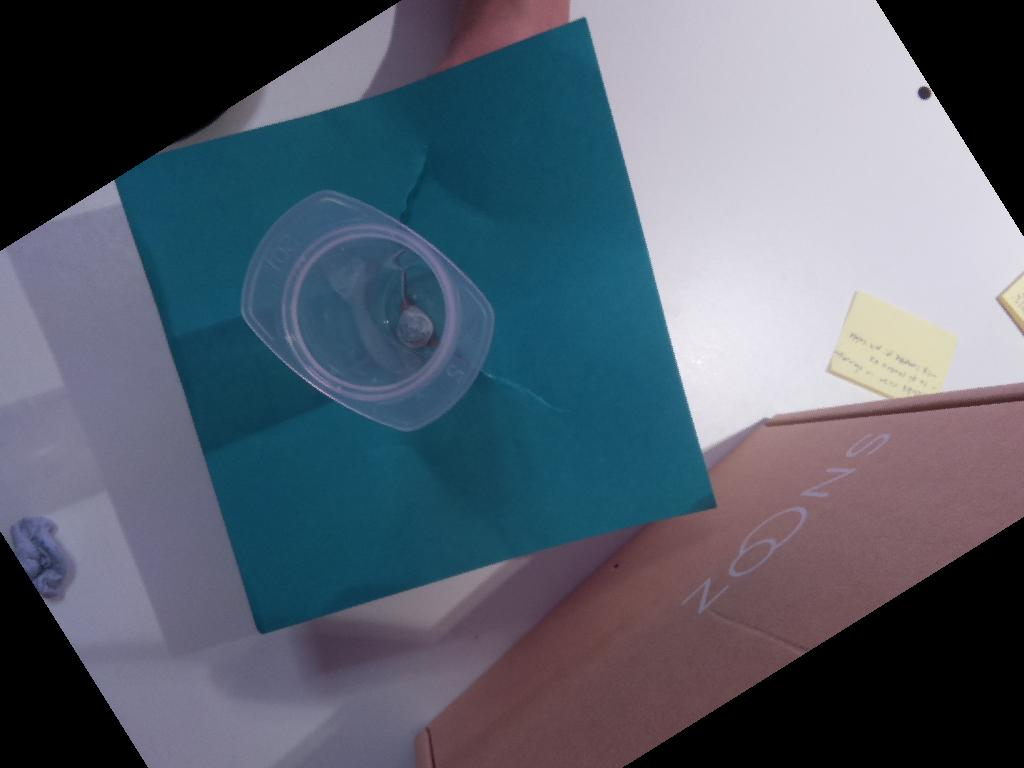clean: (238, 188, 495, 434)
